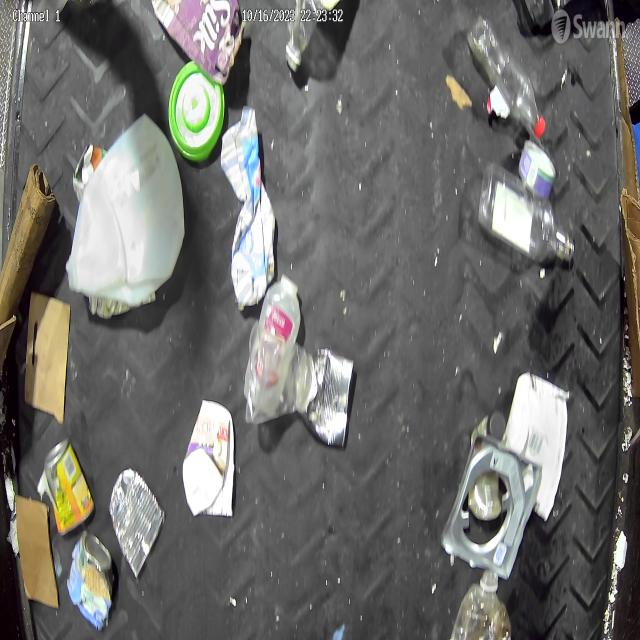can: (110, 468, 164, 576), (299, 347, 352, 451), (66, 527, 116, 631), (41, 436, 94, 534), (518, 140, 556, 198)
milk_jug: (67, 112, 186, 310)
non_white_jug: (220, 105, 276, 311), (150, 0, 246, 85)
plastic_bottle: (478, 161, 574, 264), (466, 15, 546, 136), (442, 569, 516, 640), (286, 0, 339, 73)
